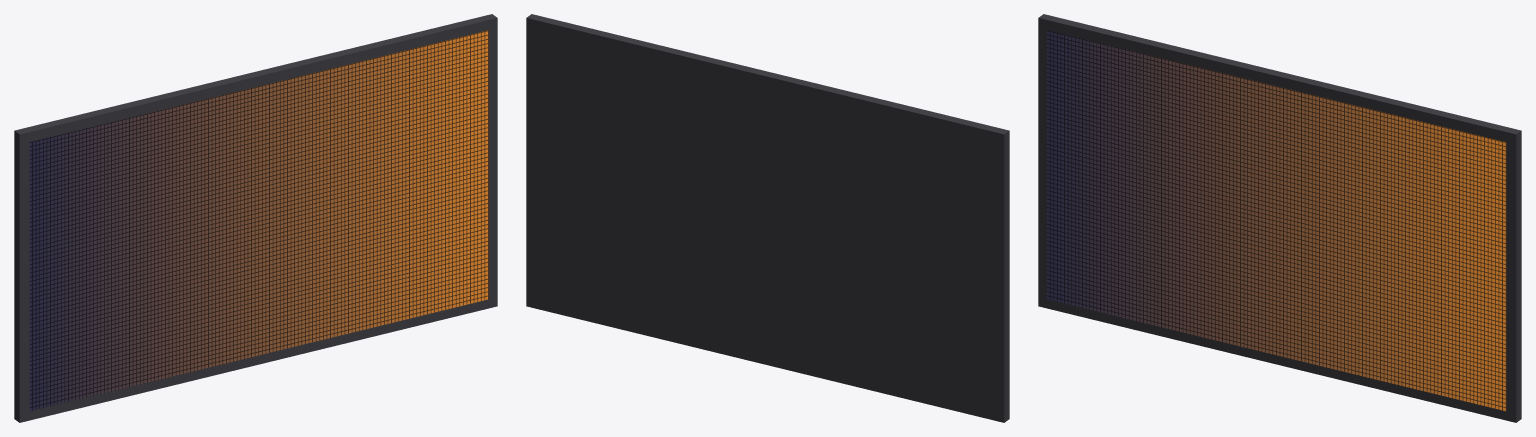
Rendered from led_wall.glb.
3 renders of one model, left to right at view 1: azimuth 30°, elevation 25°; view 2: azimuth 150°, elevation 25°; view 3: azimuth 330°, elevation 25°, orthographic.
Parts seen in each view (by area): view 1: led_screen, led_frame; view 2: led_frame; view 3: led_screen, led_frame.
Boxes of the visible parts, box(x1,y1,x2,y2) form: led_screen: box(29, 30, 488, 411); led_frame: box(14, 14, 497, 422); led_frame: box(526, 14, 1009, 422); led_screen: box(1047, 30, 1506, 411); led_frame: box(1038, 14, 1521, 422).
Size of the model in its own units: 5.2 by 3 by 0.11.
Materials: 2 (1 with a texture image).
